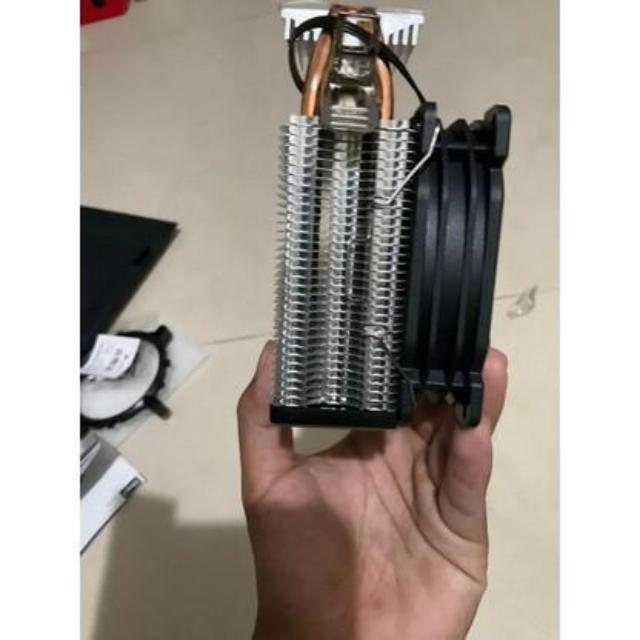CPU_Fan: (268, 6, 500, 426)
